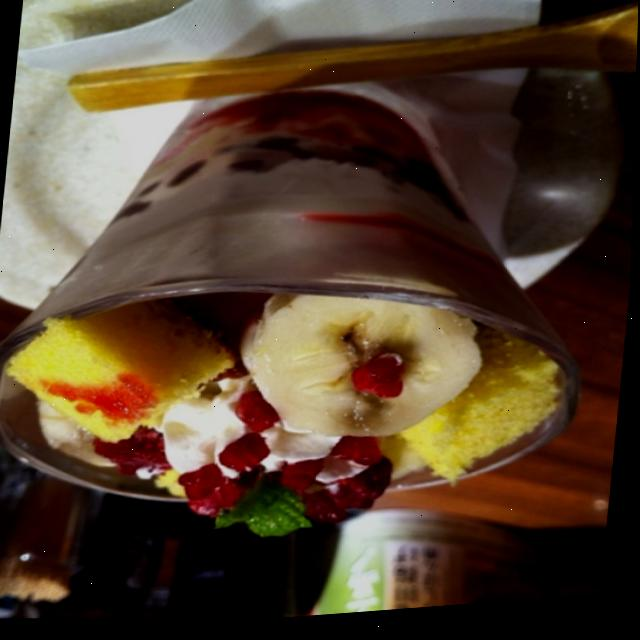蛋糕甜品: (0, 1, 617, 600)
